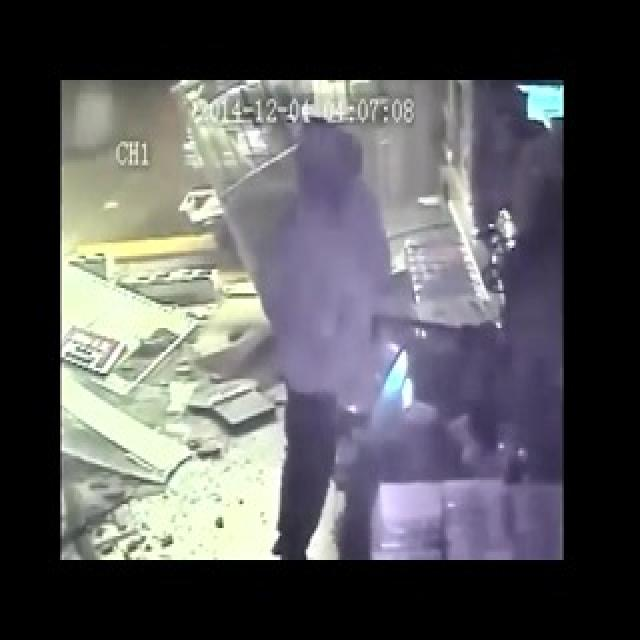burglary: (70, 104, 282, 502)
